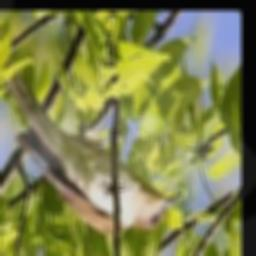Cuckoo: (0, 53, 183, 234)
